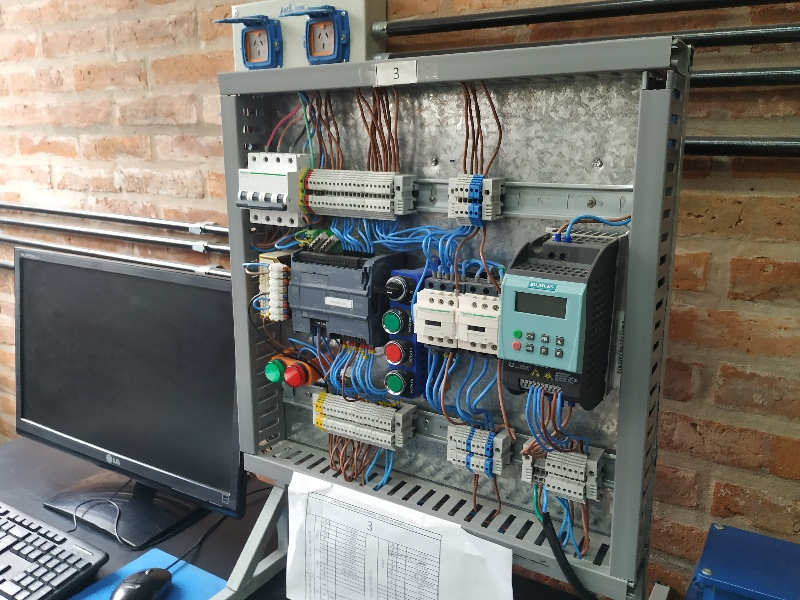Tablero 3: (229, 77, 642, 558)
